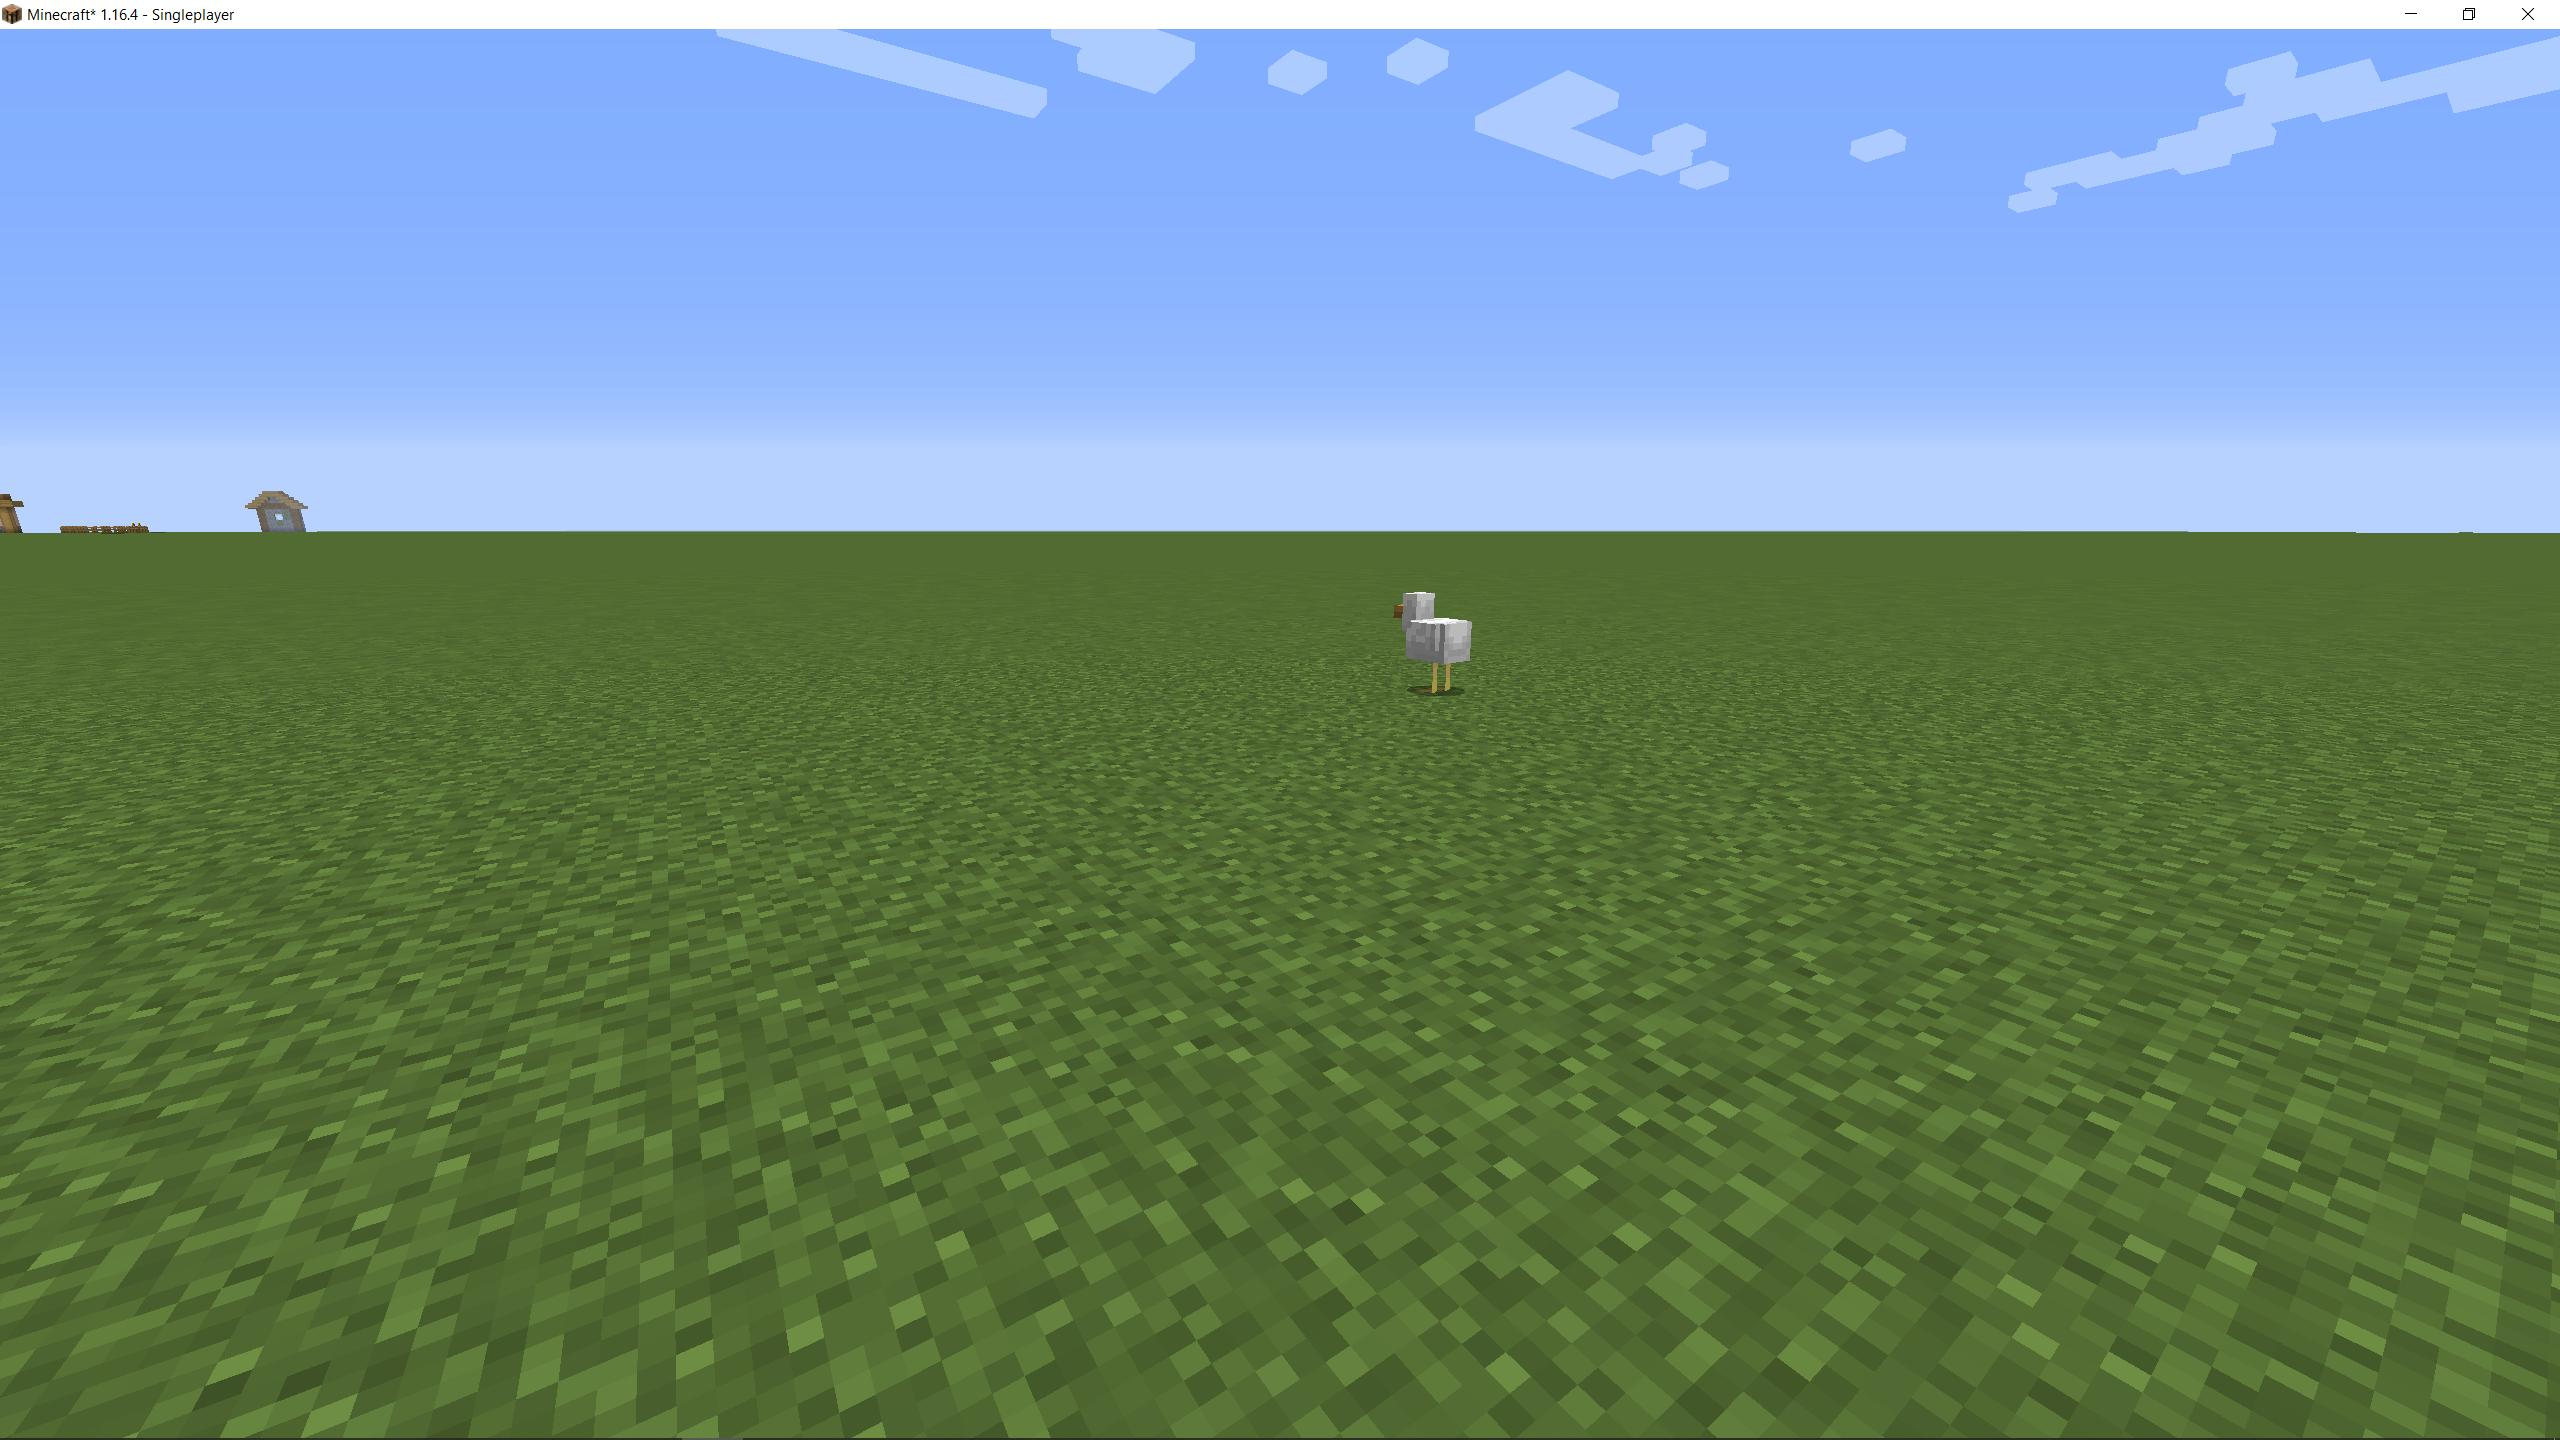chicken: (1378, 587, 1479, 703)
